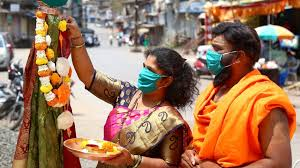mask: (202, 24, 244, 80), (136, 48, 171, 98)
